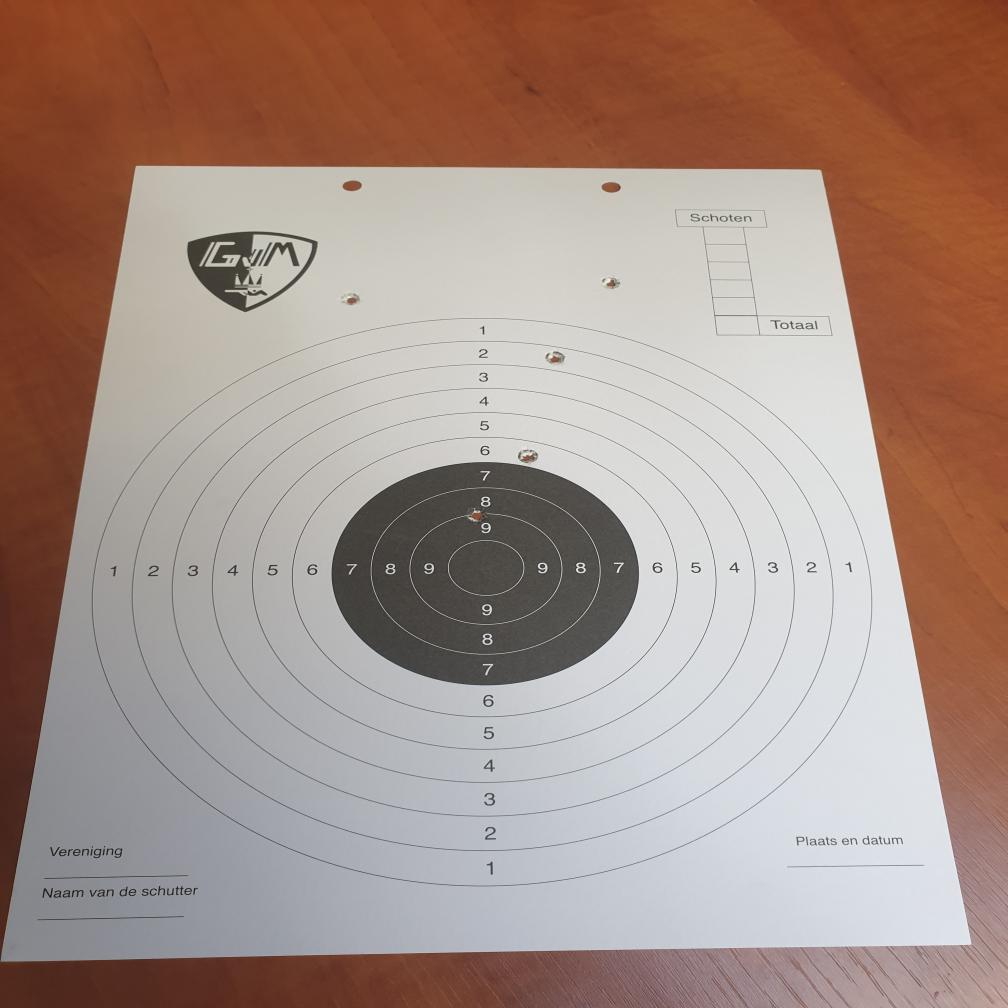0: (338, 291, 362, 306), (600, 276, 622, 290)
2: (544, 349, 567, 366)
6: (515, 447, 540, 466)
9: (464, 506, 488, 525)
Target: (86, 314, 876, 889)
black_contour: (331, 461, 640, 687)
